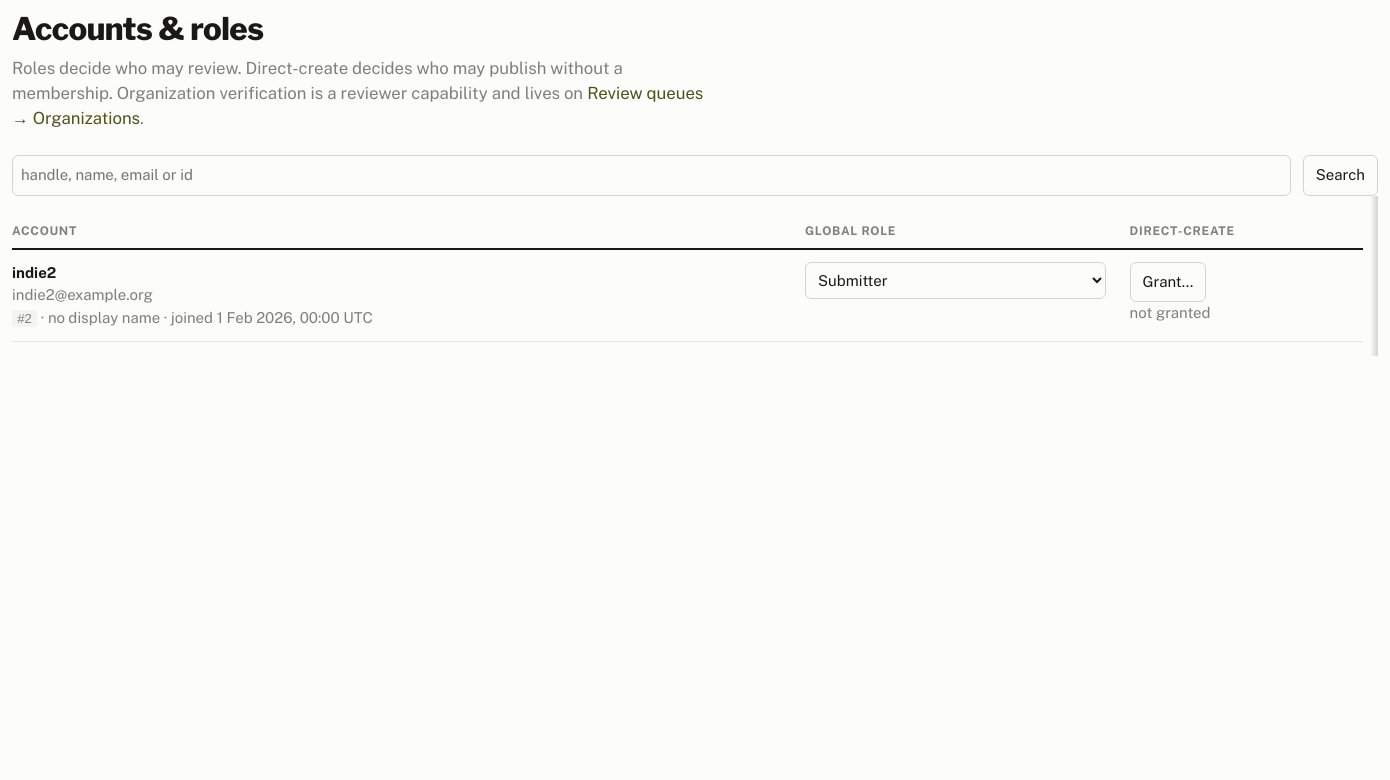
Test: changing a role › stages the change instead of firing on the select's change event
The width and height of the screenshot is (1390, 780).
Select "Hub reviewer" in the dropdown named "Global role for account 2": (955, 280) [805, 262, 1106, 299]
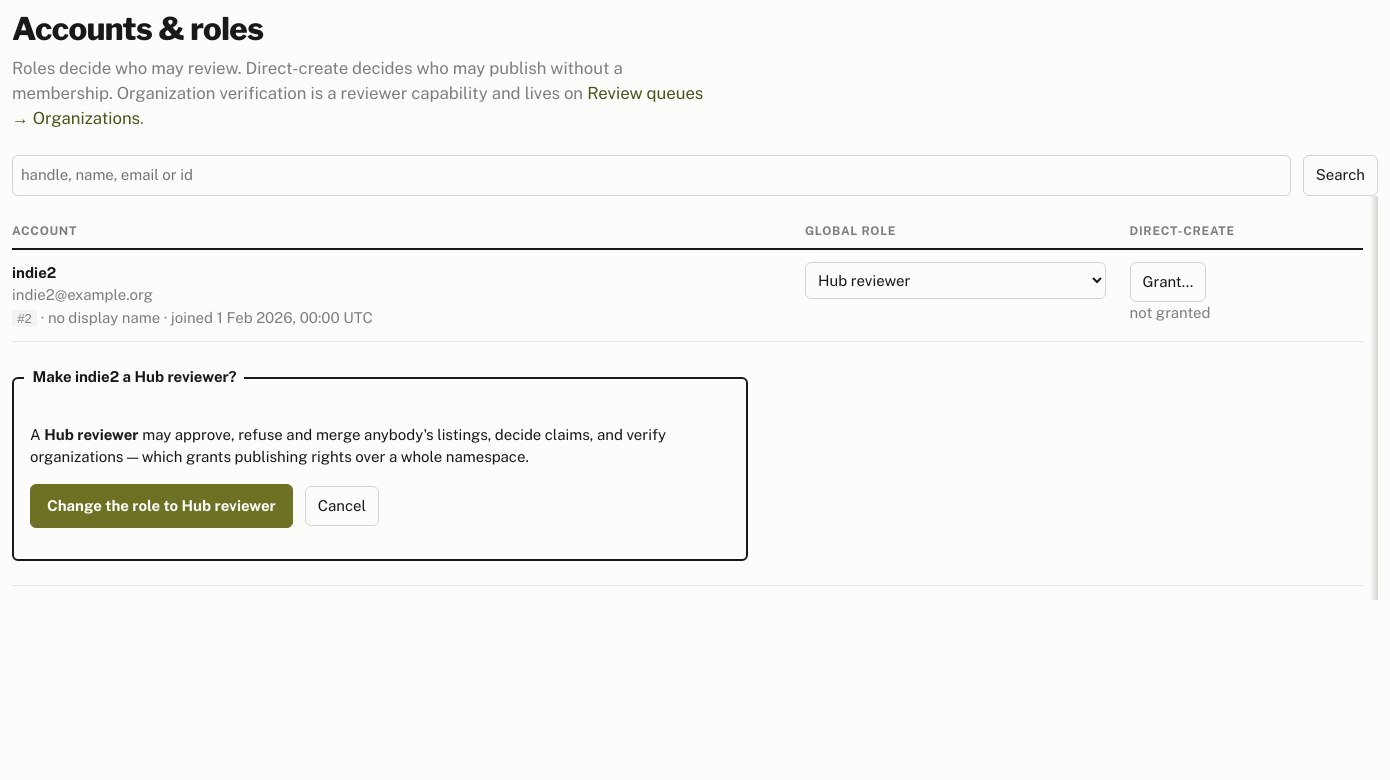
Result: the text "Make indie2 a Hub reviewer?" is shown at [24, 366, 244, 389]
